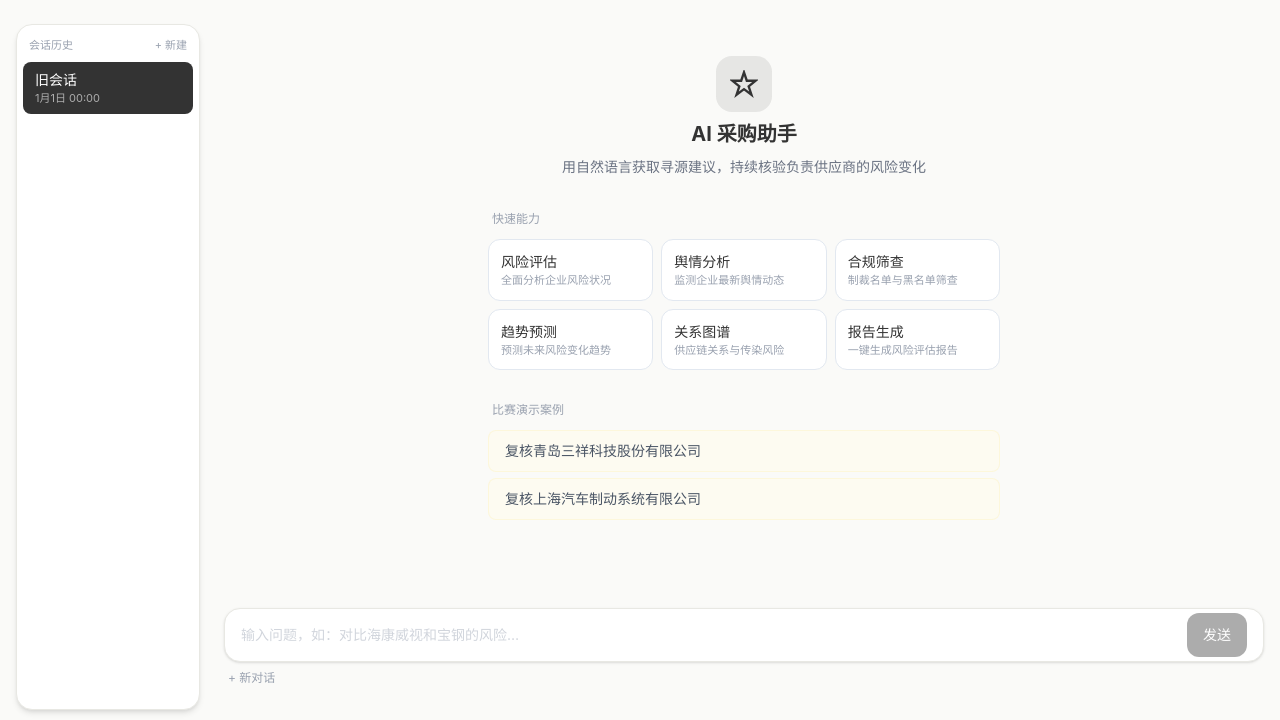
Test case: ChatView session lifecycle › shows a terminal context error once and keeps it once after remount
Type "查看供应商" into the field named "向 AI 采购助手提问" at (710, 635), box [241,615,1179,655]
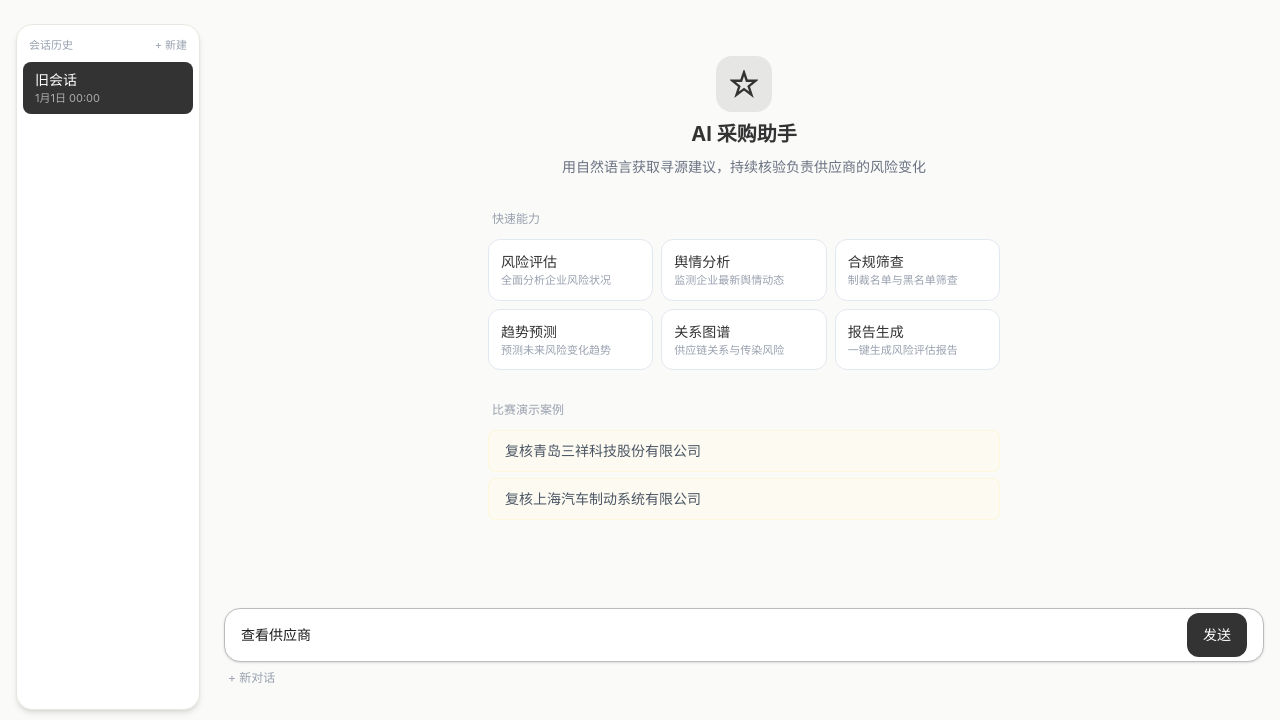
Click the button "发送" at (1217, 635), box [1187,613,1247,657]
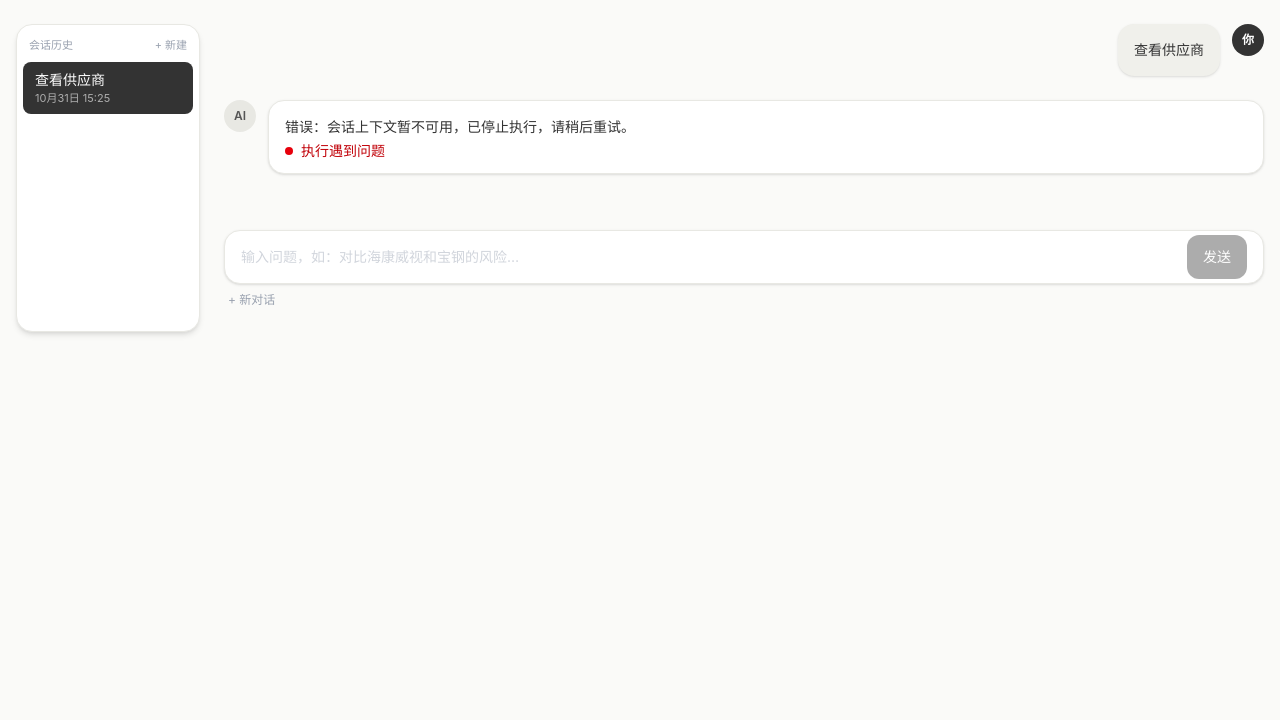
expect the text "错误：会话上下文暂不可用，已停止执行，请稍后重试。" is shown once: met, box [285,118,635,135]
